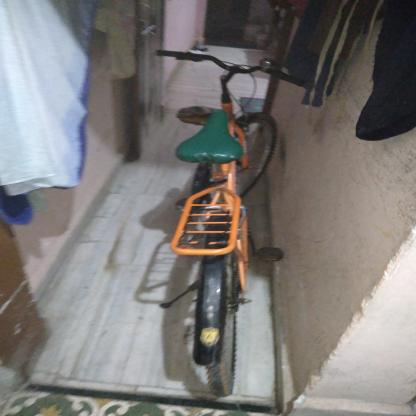bike: (122, 31, 339, 409)
